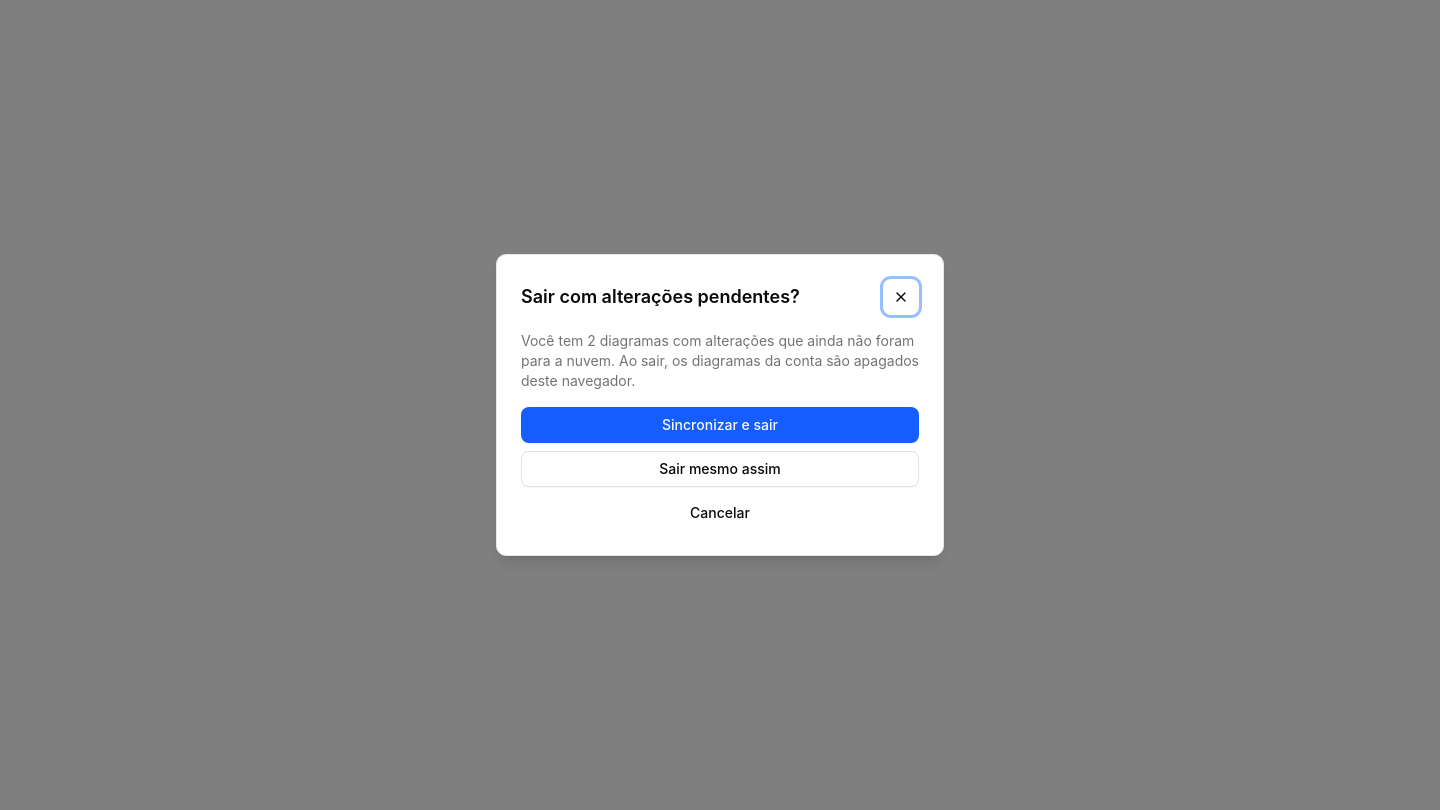
Scenario: SignOutDialog › uses the plural when several diagrams could not be synced
This screenshot has width=1440, height=810.
Click the button "Sincronizar e sair" at (720, 425), box [521,407,919,443]
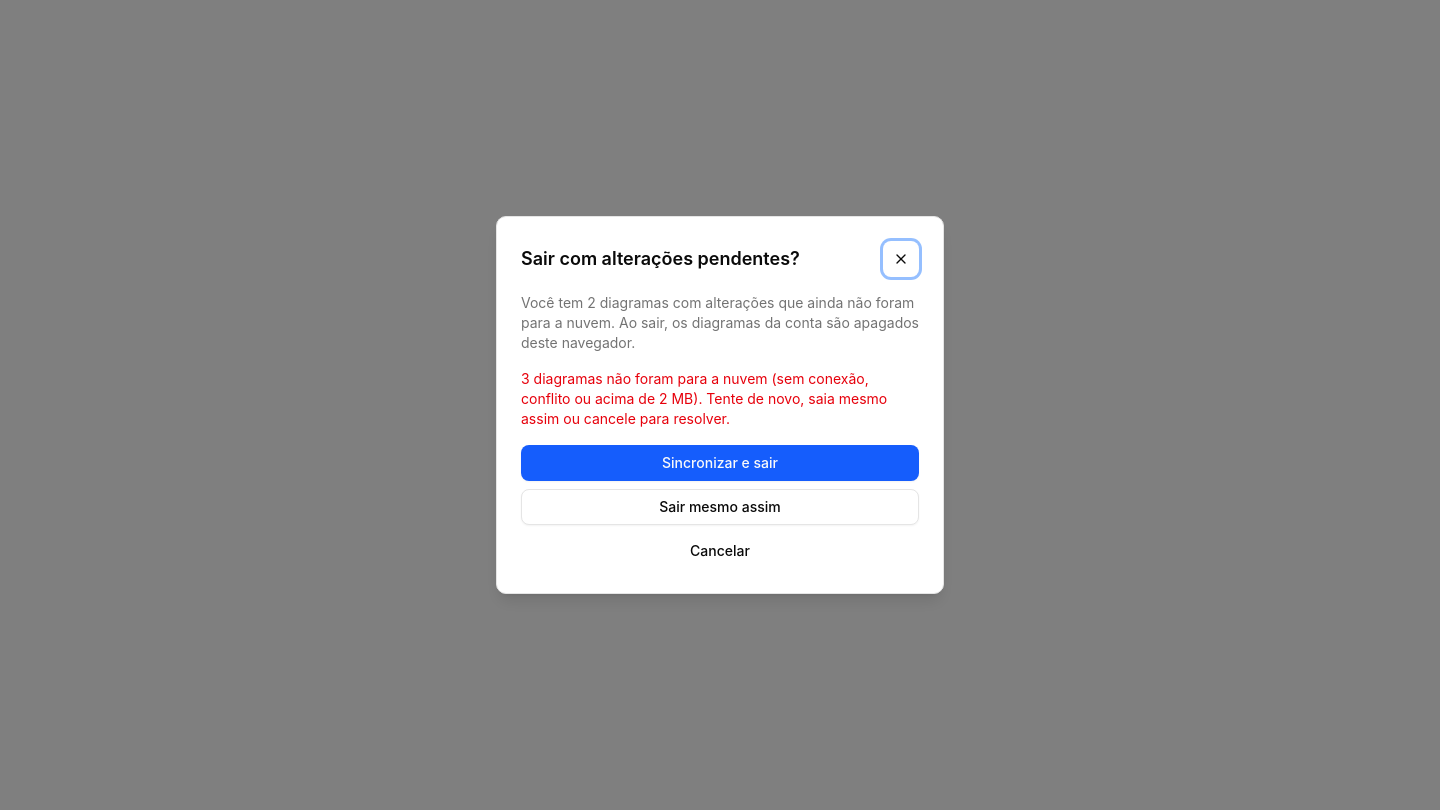
Check: the message shows "3 diagramas não foram para a nuvem", box [521,370,887,427]
